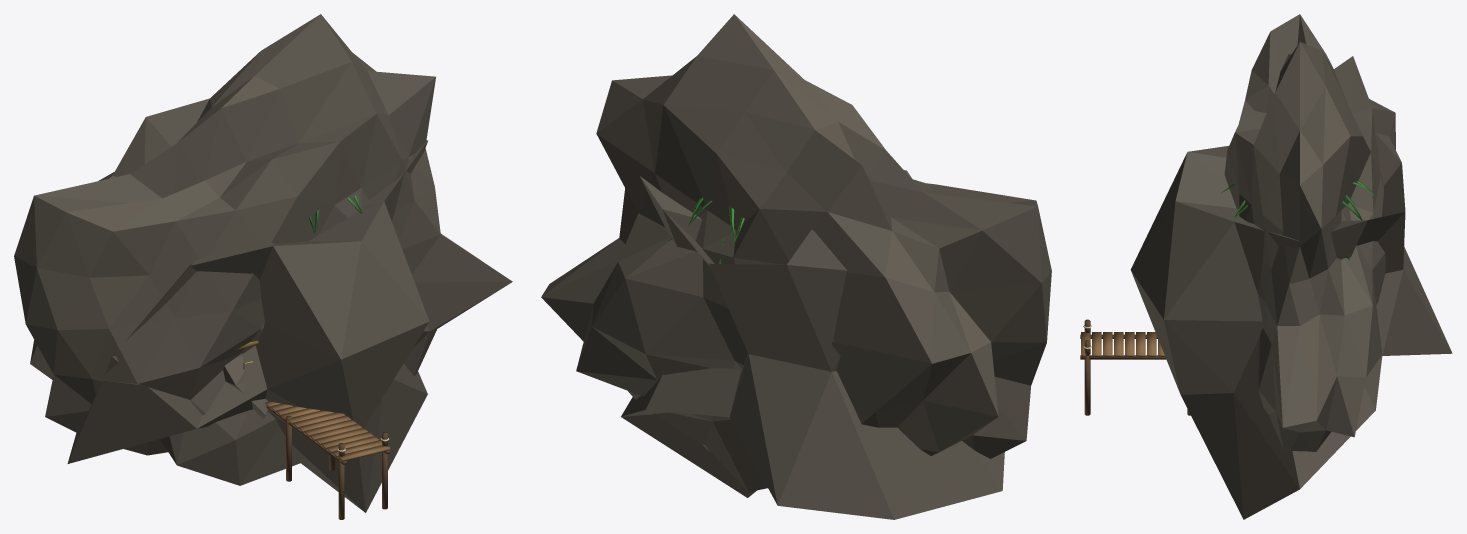
The model's file is islands.glb.
The picture shows the model from 3 angles, left to right: view 1: azimuth 30°, elevation 25°; view 2: azimuth 150°, elevation 25°; view 3: azimuth 270°, elevation 25°; orthographic projection. The views are drawn at different scales.
Parts seen in each view (by area): view 1: isle_grotto, isle_rock_c, isle_jetty, isle_rock_b; view 2: isle_grotto, isle_rock_c; view 3: isle_grotto, isle_rock_c, isle_jetty.
Part boxes in pixels (box(x1,y1,x2,y2)): isle_grotto: box(14, 14, 512, 485); isle_rock_c: box(67, 140, 429, 512); isle_jetty: box(265, 401, 390, 519); isle_rock_b: box(223, 355, 268, 419); isle_grotto: box(541, 14, 1051, 491); isle_rock_c: box(621, 170, 1004, 519); isle_grotto: box(1224, 14, 1395, 453); isle_rock_c: box(1130, 132, 1452, 519); isle_jetty: box(1080, 319, 1190, 415).
Size of the model in its own units: 22.26 by 21.27 by 15.25.
